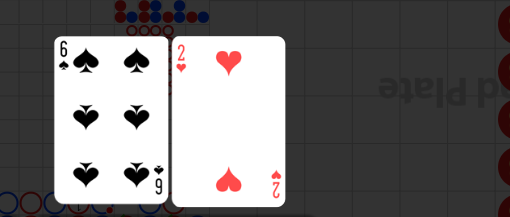2H: (269, 168, 282, 199)
6S: (58, 40, 71, 73)
